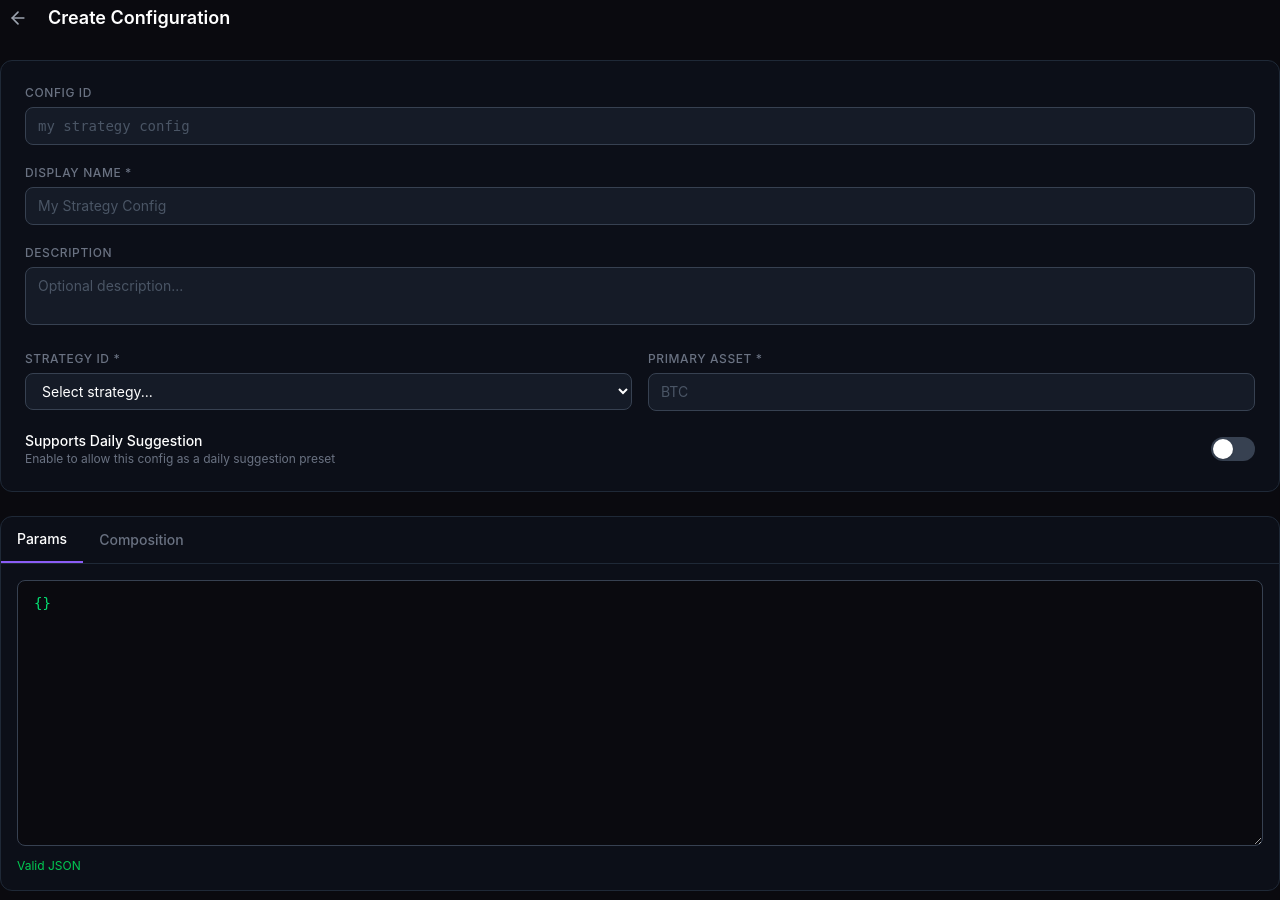
Scenario: ConfigEditorView › create mode form › shows invalid config ID error for uppercase letters
Type "MyInvalid" into the field with placeholder "my_strategy_config" at (640, 126), box [25,107,1255,145]
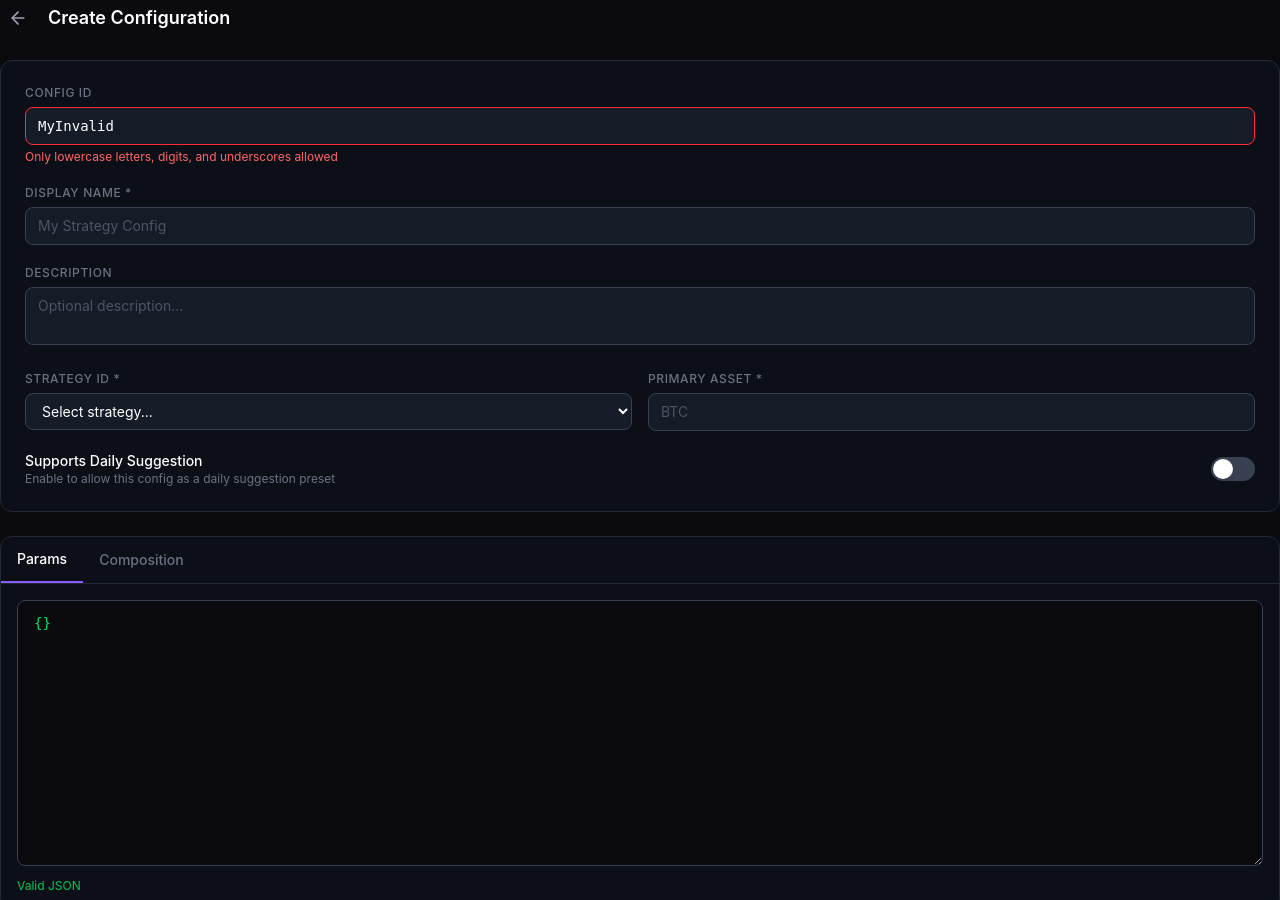
Now the text "Only lowercase letters, digits, and underscores allowed" is shown, box [25,149,338,164]
